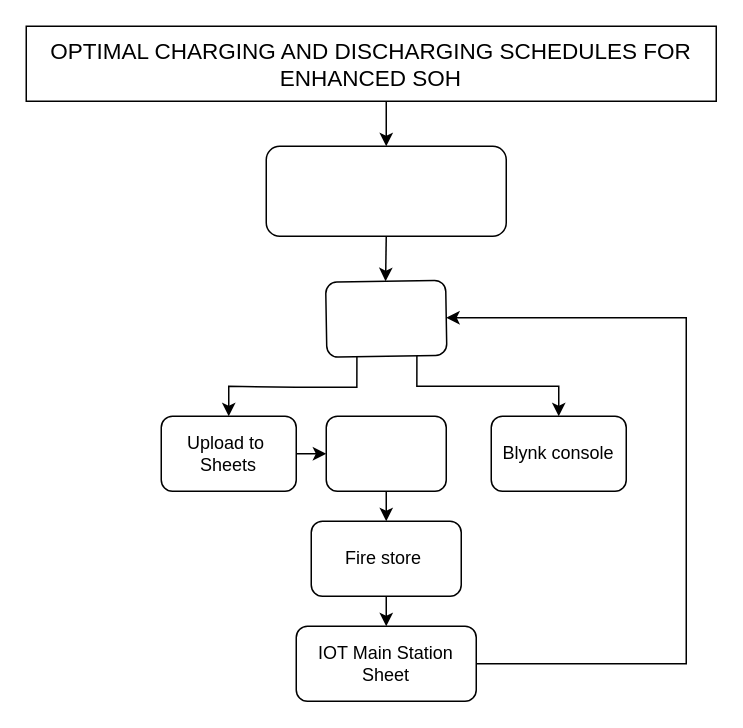
Image size: 743x728. Some labels were removed from this diagram. Here are the shapes that lost their labels. From the top down, the box of each, then its label:
(265, 145, 506, 236): Data collection from Battery [BMS]
(324, 279, 447, 357): ESP32
(325, 415, 446, 491): App script
